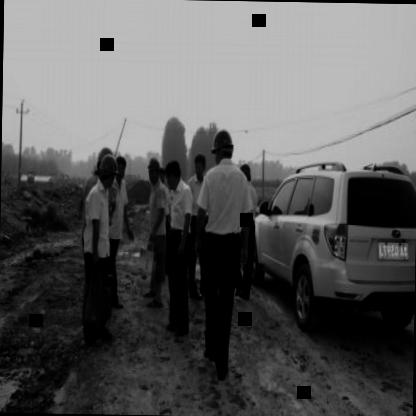head: (161, 156, 184, 194), (114, 154, 128, 182), (194, 153, 206, 180)
helmet: (208, 126, 234, 166), (96, 156, 117, 190), (146, 152, 160, 186), (94, 144, 110, 172), (237, 160, 252, 186)
